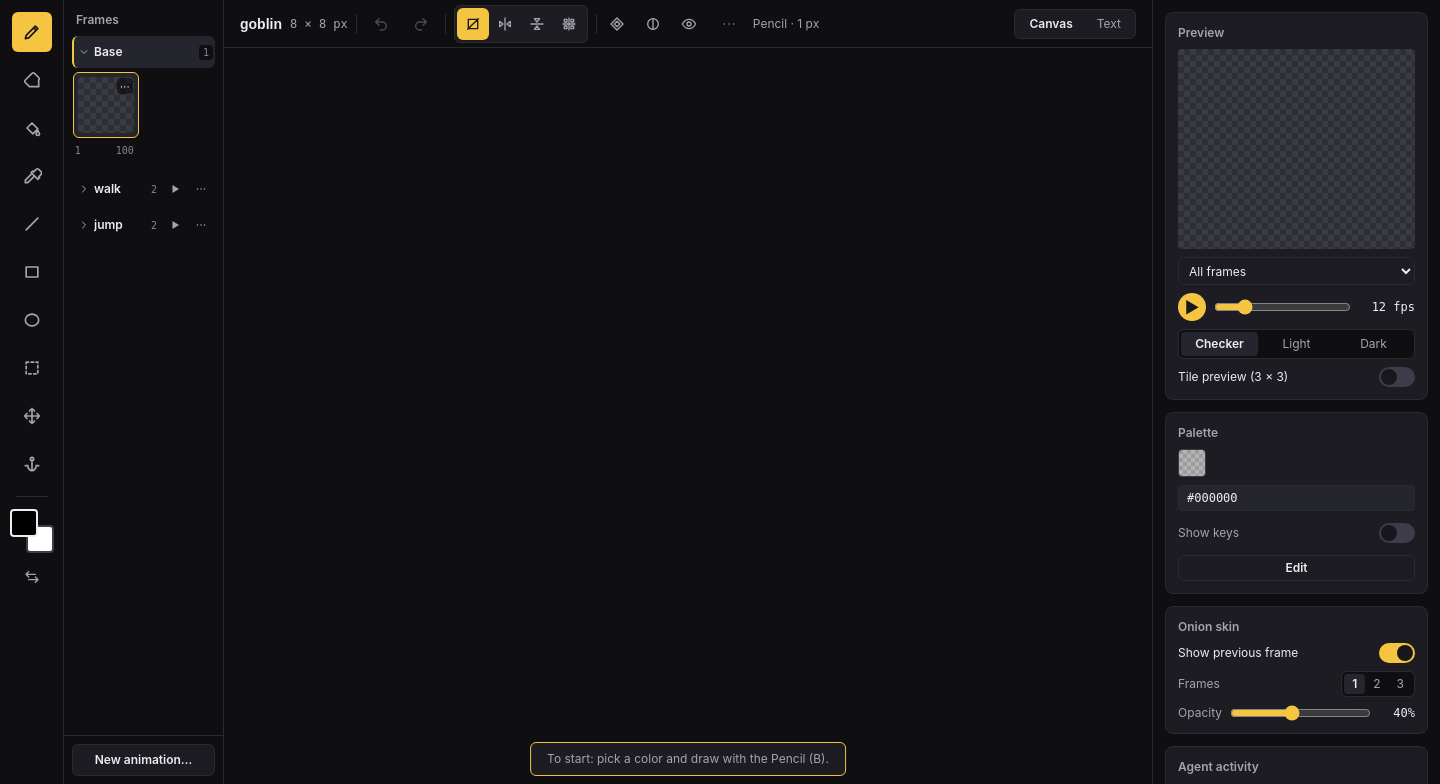
Scenario: The frames strip in groups › keeps the header height when a group is chosen
This screenshot has width=1440, height=784.
Expected: the element "walk" is shown, [72, 173, 215, 205]
Step 1. Click the button with aria-label "Select walk" → (112, 189), box [78, 177, 145, 201]
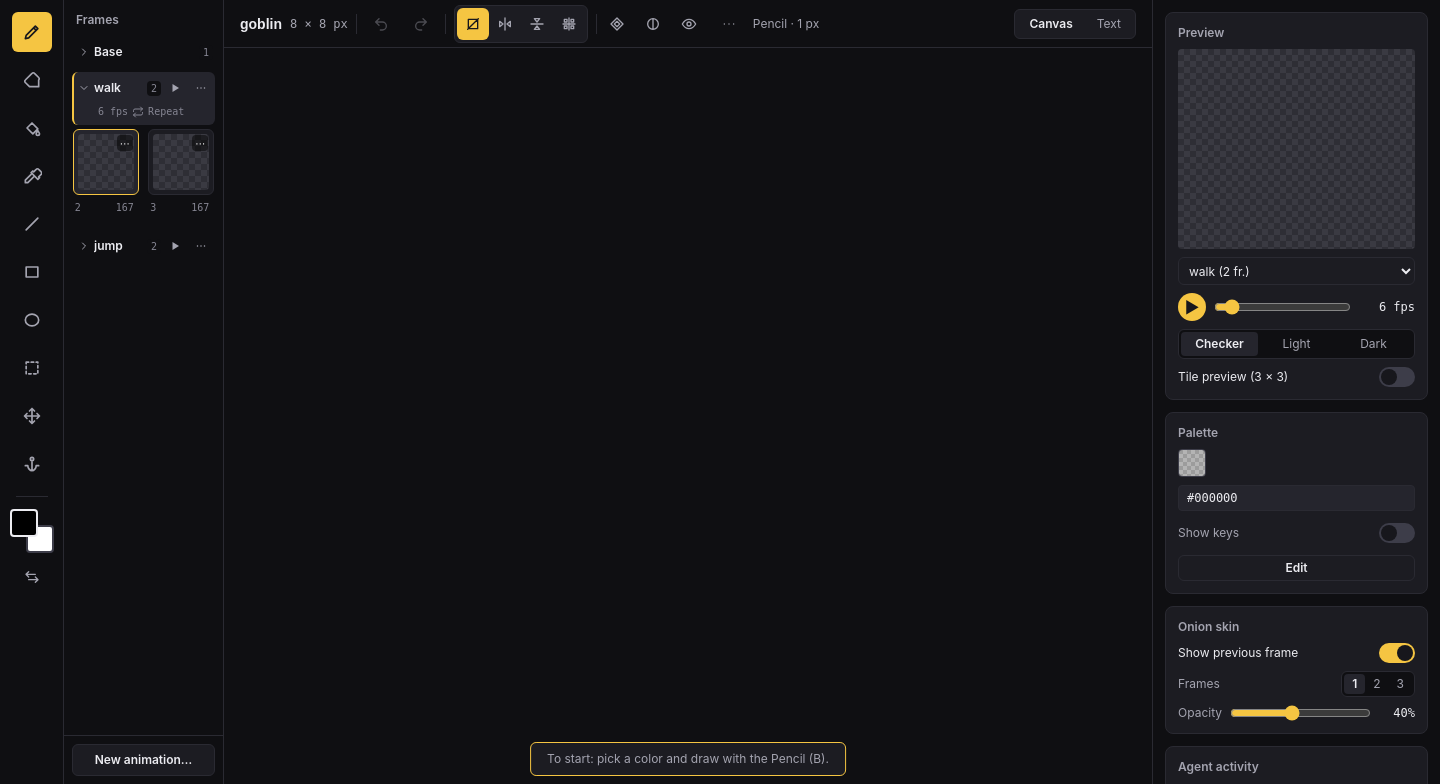
Expected: the button with aria-label "Select walk" is expanded, [78, 76, 145, 100]
